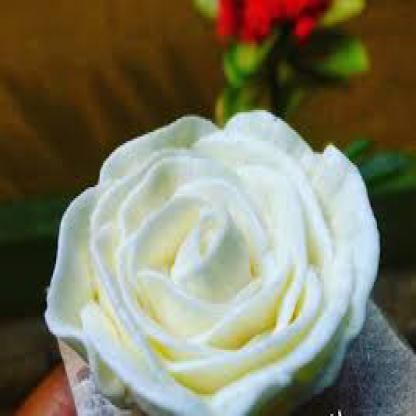Rose-Mawar: (42, 109, 385, 415)
